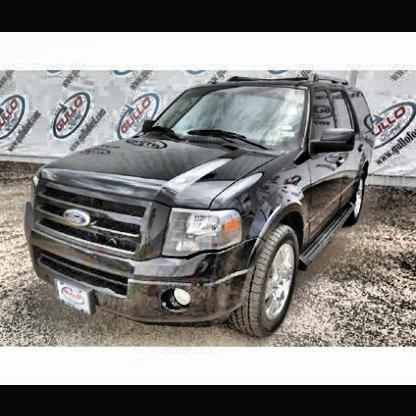Ford Expedition EL SUV 2009: (28, 78, 376, 341)
